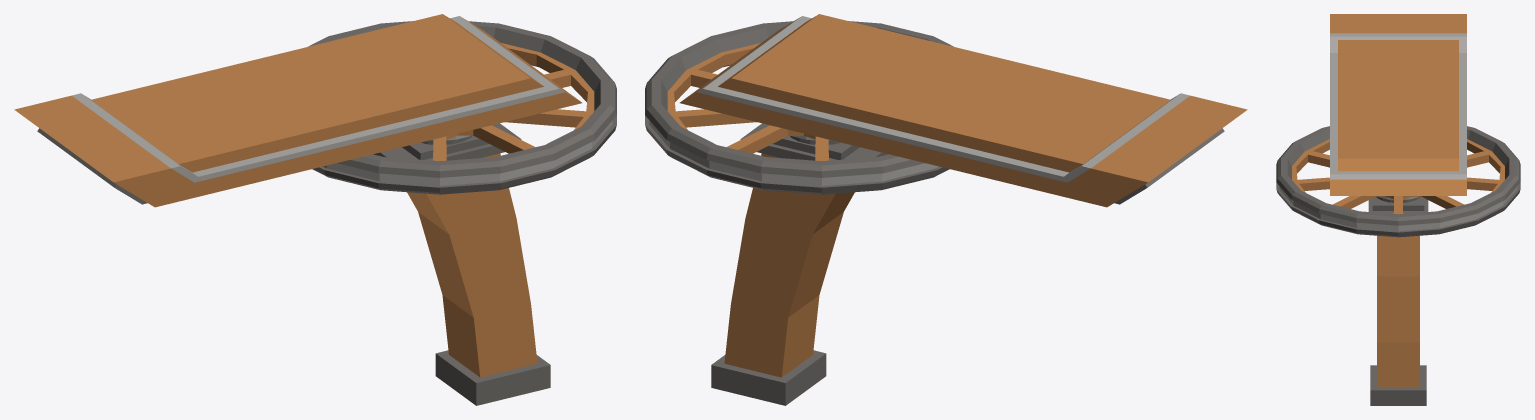
Rendered from ice_skilift_mechanism.fbx.
3 renders of one model, left to right at view 1: azimuth 30°, elevation 25°; view 2: azimuth 150°, elevation 25°; view 3: azimuth 270°, elevation 25°, orthographic. The views are drawn at different scales.
Visible parts, largest first — view 1: top, skilift_mechanism, skilift_wheel; view 2: top, skilift_mechanism, skilift_wheel; view 3: top, skilift_wheel, skilift_mechanism.
Part boxes in pixels (x1,y1,x2,y2): top: (14, 14, 581, 207); skilift_mechanism: (373, 123, 550, 405); skilift_wheel: (308, 21, 616, 194); top: (680, 14, 1247, 207); skilift_mechanism: (711, 123, 888, 405); skilift_wheel: (645, 21, 953, 194); top: (1330, 14, 1466, 195); skilift_wheel: (1276, 126, 1520, 237); skilift_mechanism: (1368, 196, 1428, 405).
Size of what is drawn, in the model's own units: 10.25 by 6.27 by 5.91.
1 material, 1 textured.
